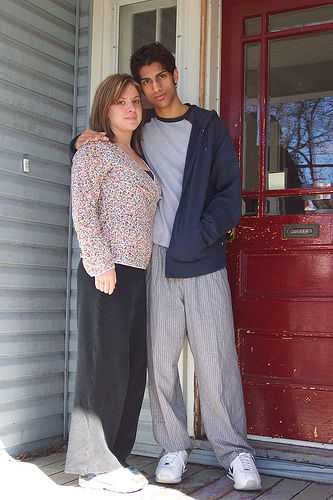without_mask: (104, 80, 143, 133), (139, 64, 180, 107)
